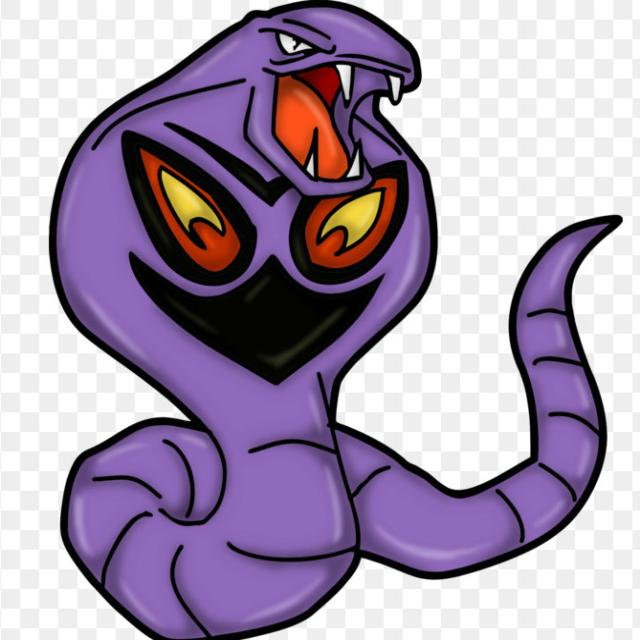Arbok: (53, 0, 452, 640)
